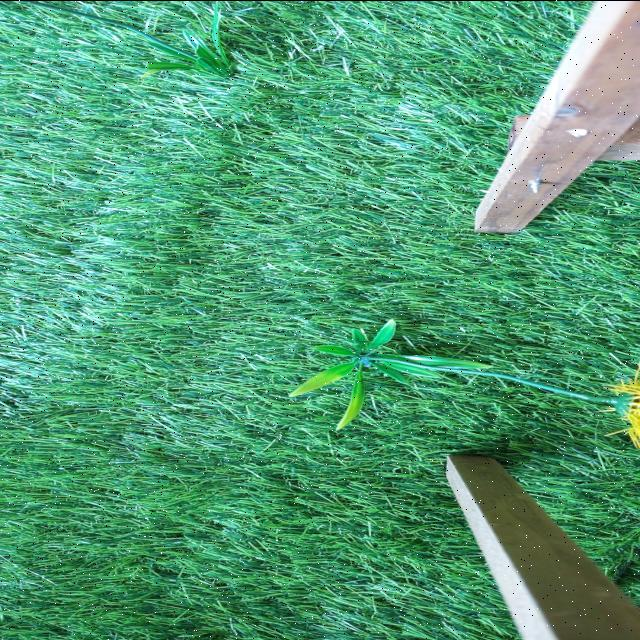base: (294, 318, 490, 422), (146, 21, 236, 72)
flower: (607, 363, 640, 449)
